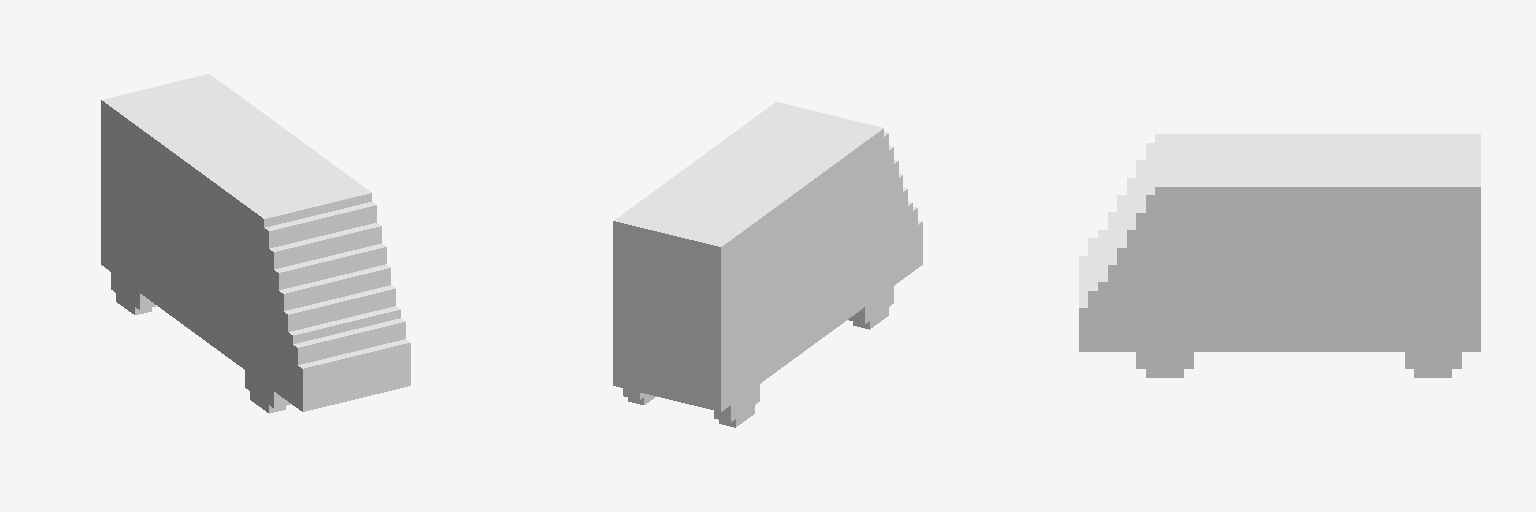
Rendered from van_white.obj.
3 views of the same model, side by side, from view 1: azimuth 30°, elevation 25°; view 2: azimuth 150°, elevation 25°; view 3: azimuth 270°, elevation 25° (orthographic).
Visible parts, largest first — view 1: van_white; view 2: van_white; view 3: van_white.
Boxes of the visible parts, <box> form: van_white: <box>101,74,410,413</box>; van_white: <box>613,102,922,427</box>; van_white: <box>1079,134,1480,377</box>.
Size of the model in its own units: 13 by 22 by 42.